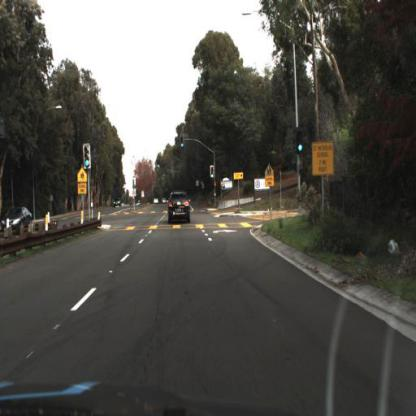car: (163, 192, 194, 228), (1, 208, 35, 238), (112, 195, 125, 210)
trafficLight-Green: (81, 137, 93, 175), (297, 125, 306, 157), (297, 134, 306, 160), (82, 158, 94, 172), (179, 134, 187, 152), (210, 162, 216, 183), (209, 167, 215, 185), (179, 143, 186, 153)
